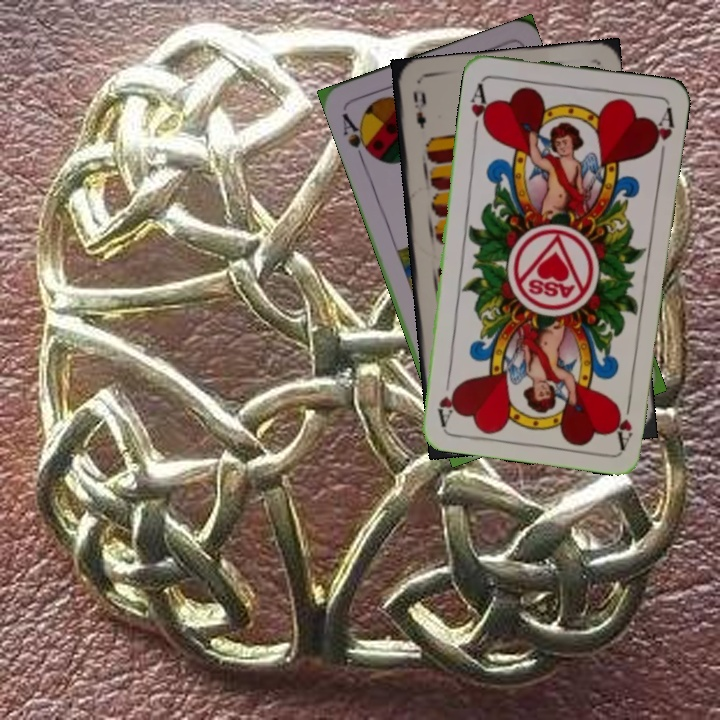E9: (409, 87, 429, 132)
HA: (466, 79, 494, 137), (608, 391, 635, 450)
SA: (338, 109, 376, 164)
